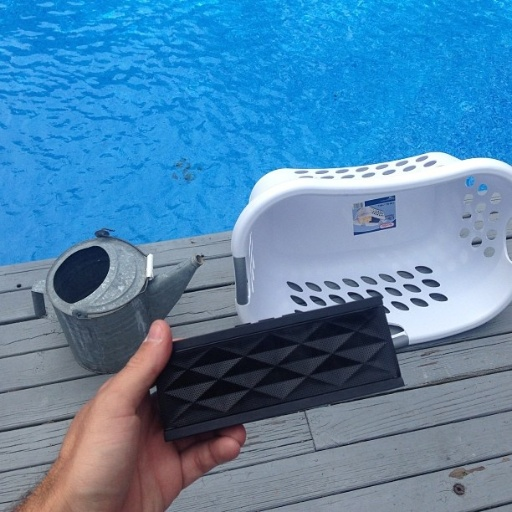hand: (37, 323, 205, 507)
